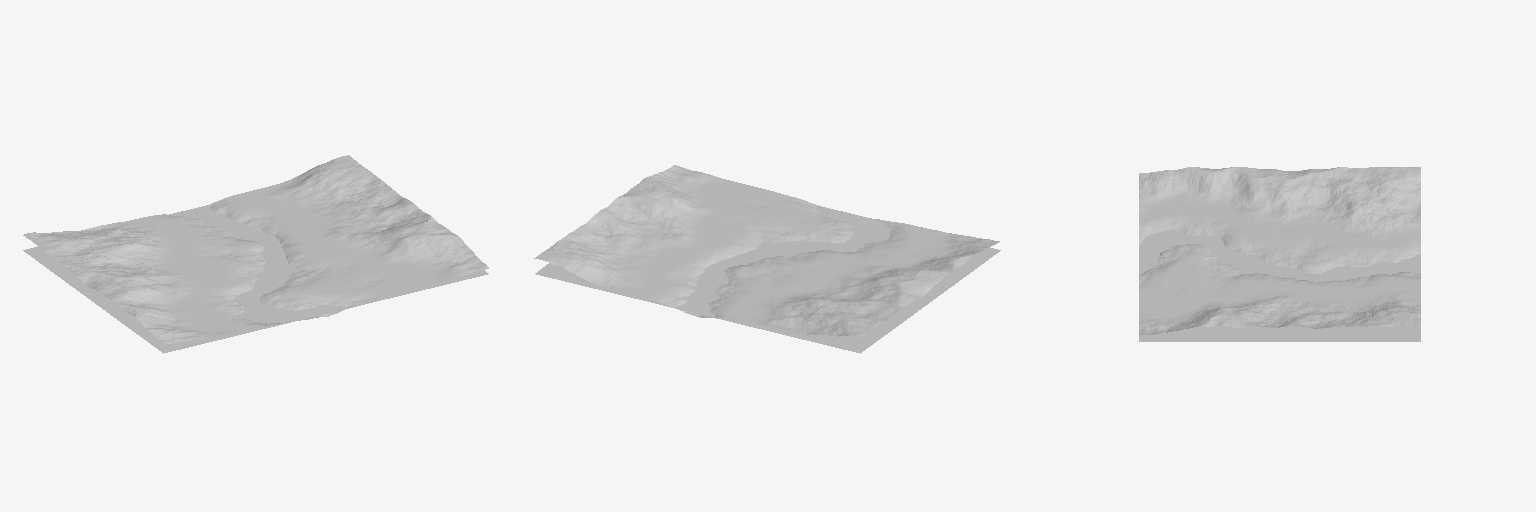
The model's file is terrainBlender.obj.
The picture shows the model from 3 angles: view 1: azimuth 30°, elevation 25°; view 2: azimuth 150°, elevation 25°; view 3: azimuth 270°, elevation 25°; orthographic projection.
Visible parts, largest first — view 1: Landscape, Landscape_plane; view 2: Landscape, Landscape_plane; view 3: Landscape, Landscape_plane.
Boxes of the visible parts, <box> form: Landscape: <box>23,155,488,343</box>; Landscape_plane: <box>23,205,488,353</box>; Landscape: <box>534,165,999,337</box>; Landscape_plane: <box>535,206,1000,353</box>; Landscape: <box>1139,167,1420,335</box>; Landscape_plane: <box>1139,230,1420,341</box>.
Size of the model in its own units: 8 by 0.4501 by 6.